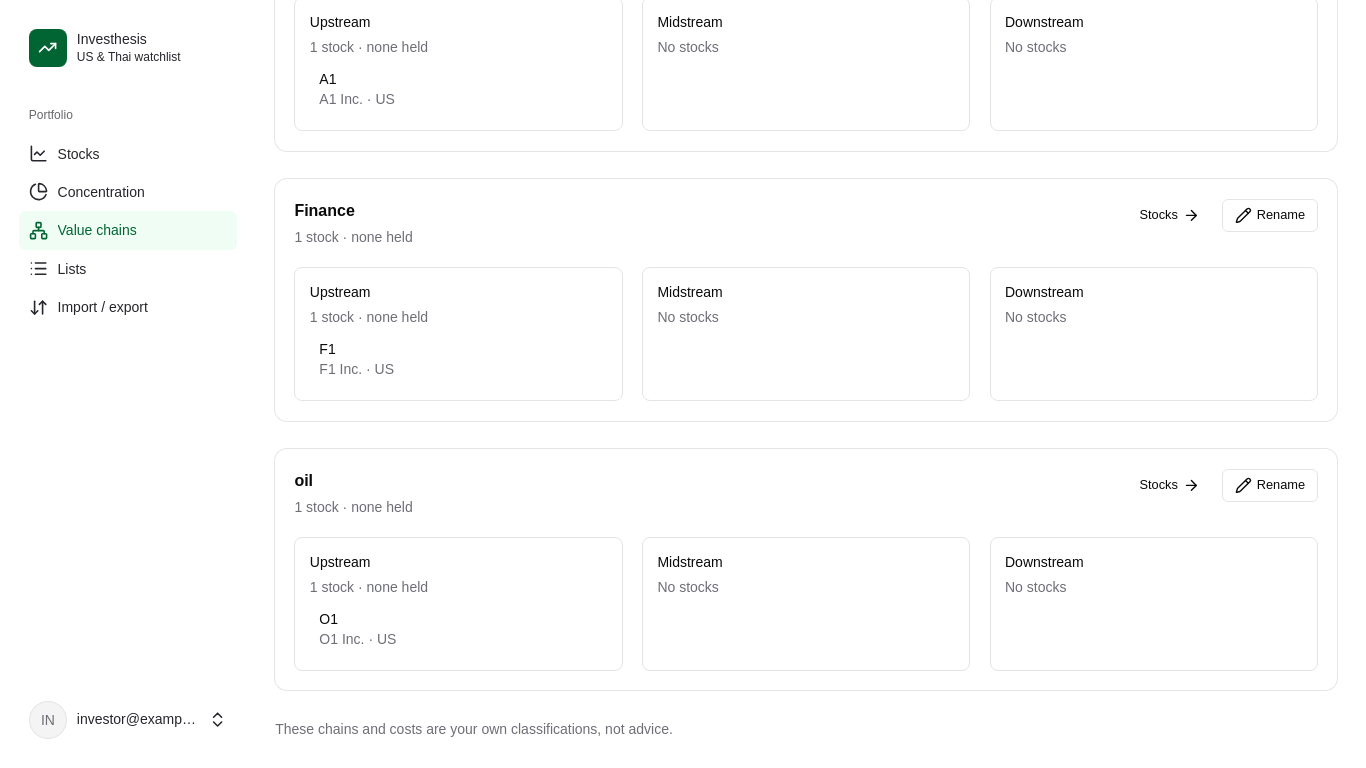
Test: focus after a rename › TC-C-939 (b) a case-only rename keeps the key and returns focus to that Rename button
(page scrolled)
Click the button "Rename" in the row of "oil": (1270, 485) [1222,469,1318,502]
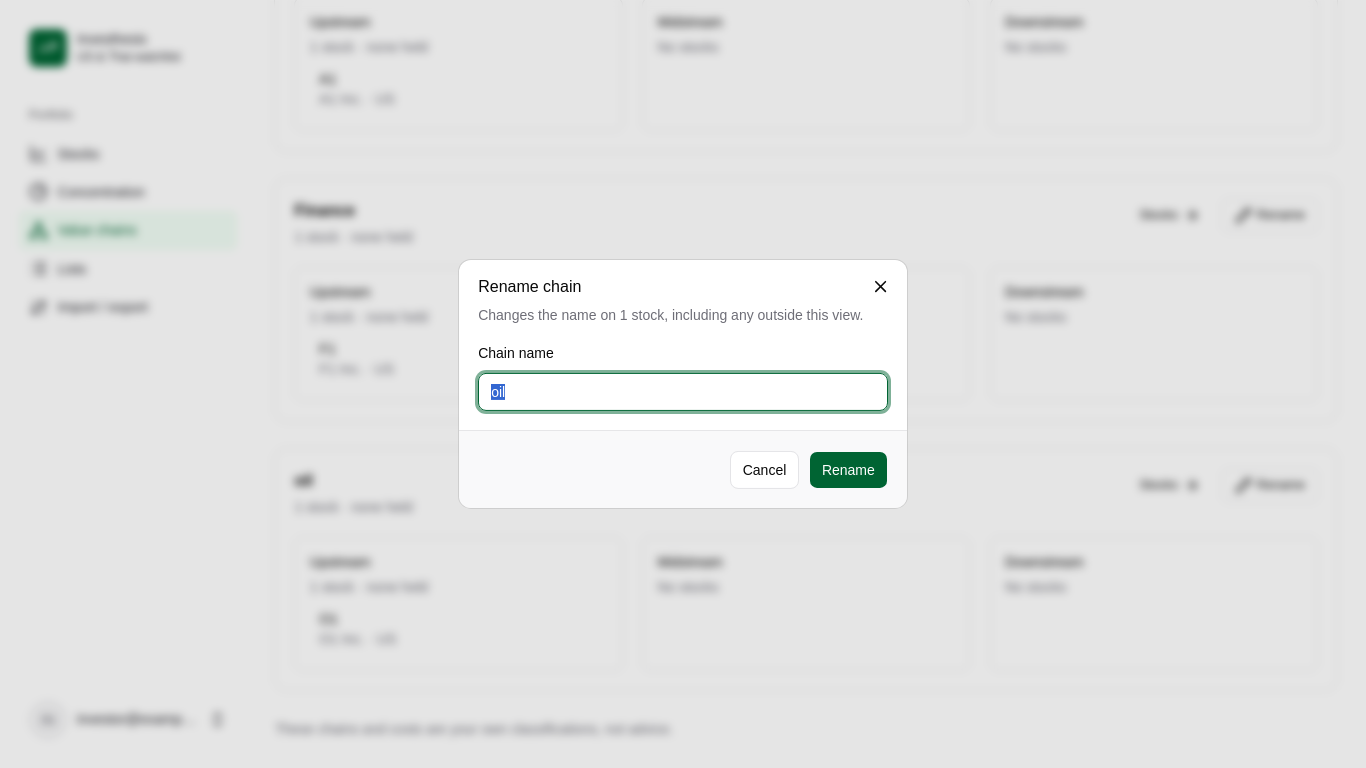
Replace the text in the field labelled "Chain name" with "Oil": (683, 392) [478,373,888,411]
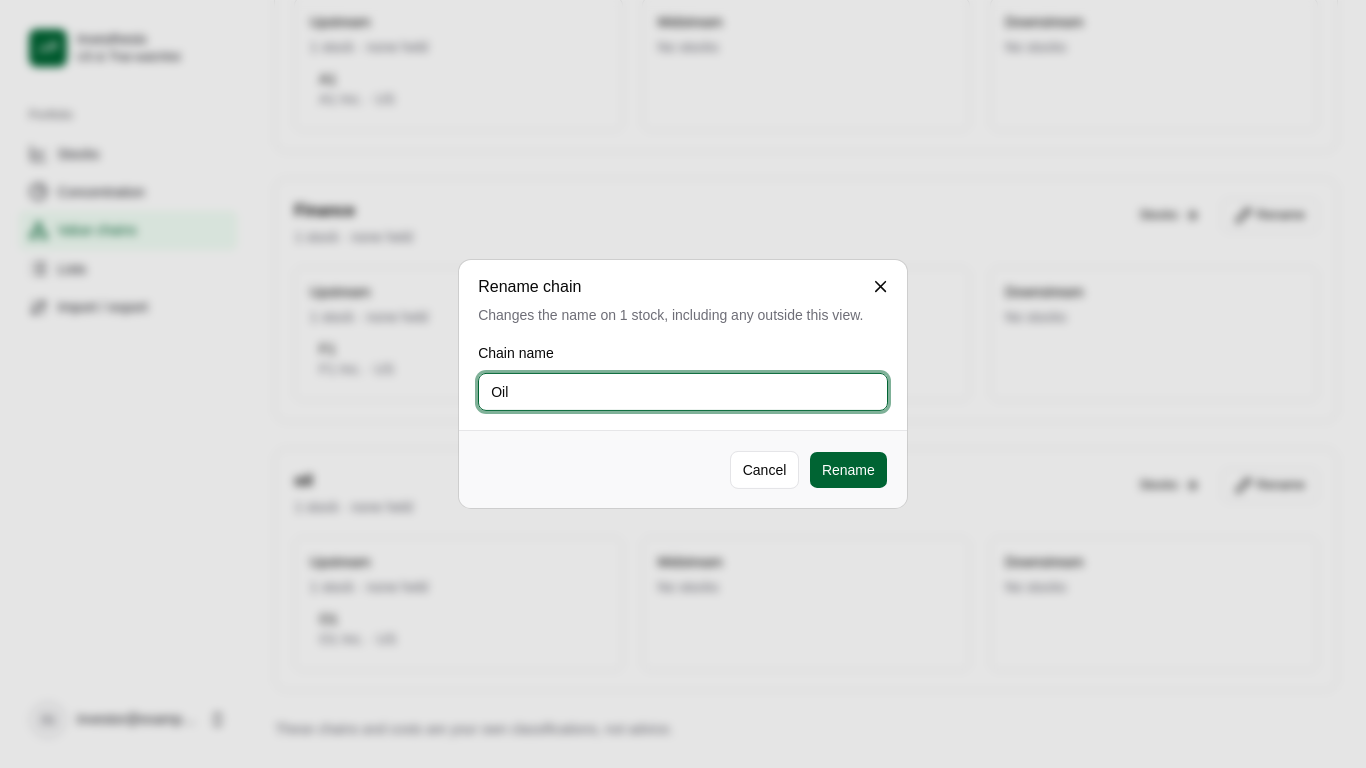
Click the button "Rename": (848, 470) [809,450,888,489]
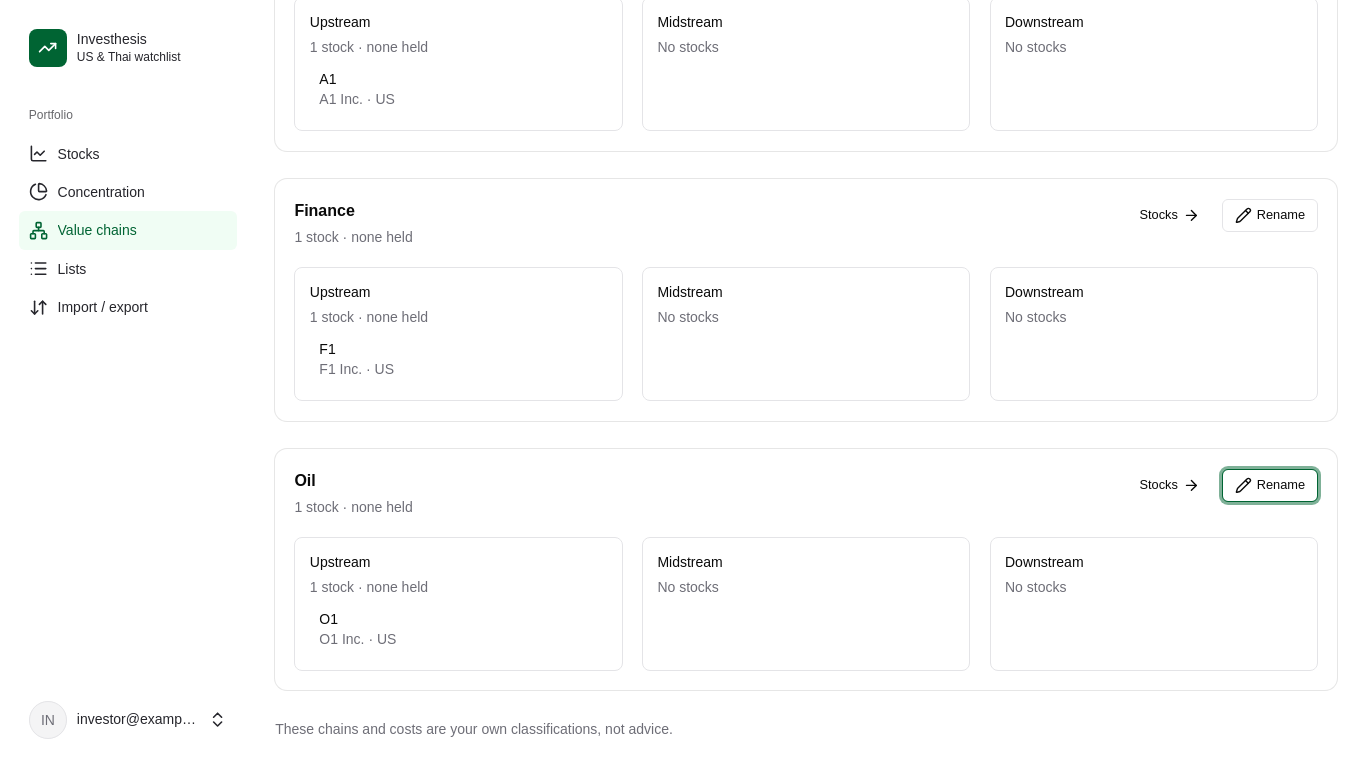
Now the dialog is gone
